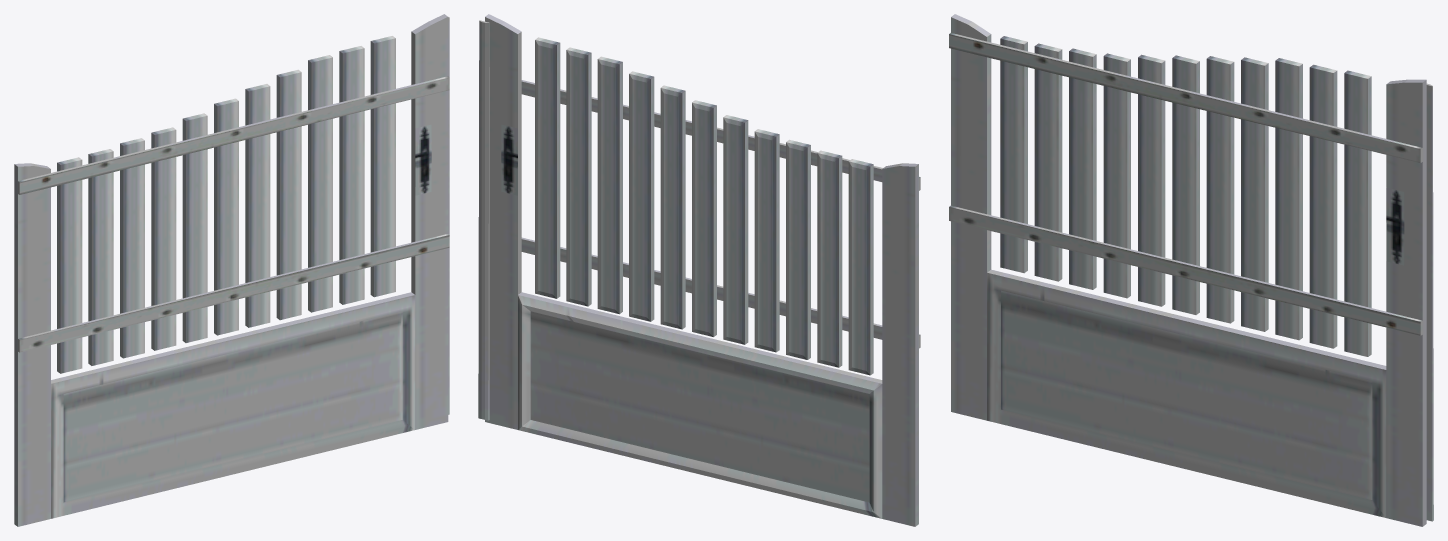
The model's file is Urban_PlasticGateRight_Model.fbx.
The picture shows the model from 3 angles, left to right: view 1: azimuth 30°, elevation 25°; view 2: azimuth 150°, elevation 25°; view 3: azimuth 330°, elevation 25°; orthographic projection. The views are drawn at different scales.
Visible parts, largest first — view 1: Urban_PlasticGateRight_Mesh; view 2: Urban_PlasticGateRight_Mesh; view 3: Urban_PlasticGateRight_Mesh.
Boxes of the visible parts, <box> form: Urban_PlasticGateRight_Mesh: <box>14,14,449,526</box>; Urban_PlasticGateRight_Mesh: <box>478,14,920,526</box>; Urban_PlasticGateRight_Mesh: <box>949,14,1433,526</box>.
Size of the model in its own units: 2.02 by 1.8 by 0.0605.
